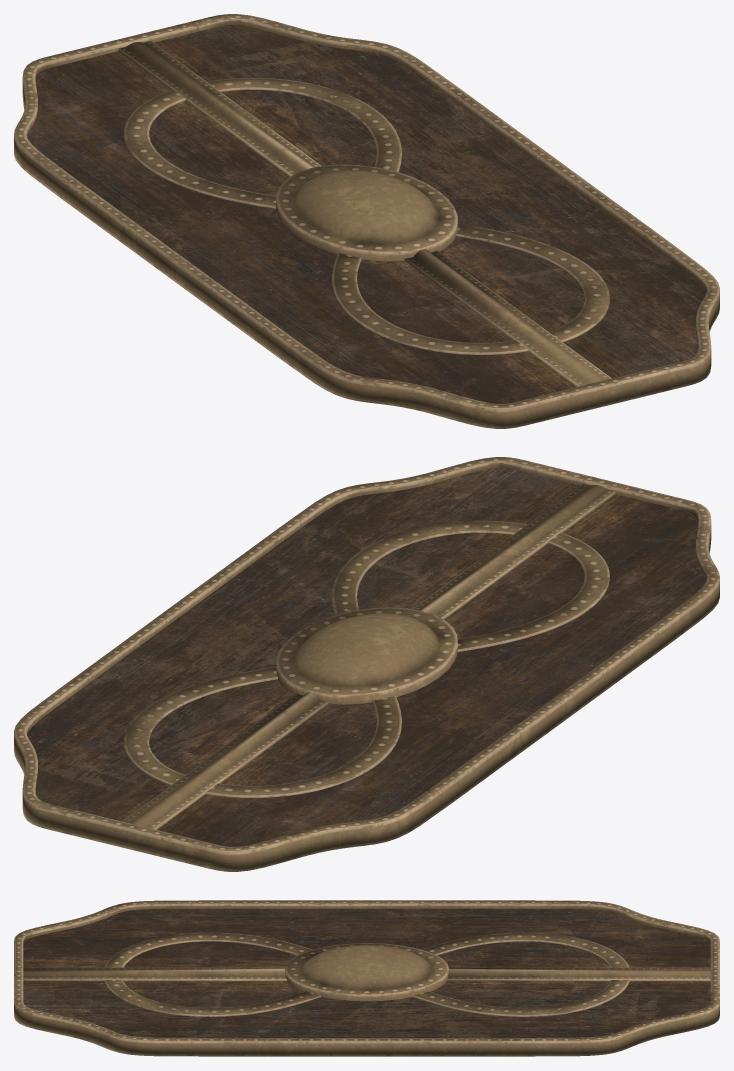
Rendered from dunland_wulf_shield_medium_d.fbx.
The picture shows the model from 3 angles, top to bottom: view 1: azimuth 30°, elevation 25°; view 2: azimuth 150°, elevation 25°; view 3: azimuth 270°, elevation 25°; orthographic projection. The views are drawn at different scales.
Visible parts, largest first — view 1: dunland_wulf_shield_medium_d; view 2: dunland_wulf_shield_medium_d; view 3: dunland_wulf_shield_medium_d.
Boxes of the visible parts, x1,y1,x2,y2 form: dunland_wulf_shield_medium_d: (14, 14, 719, 428); dunland_wulf_shield_medium_d: (14, 457, 719, 871); dunland_wulf_shield_medium_d: (14, 900, 719, 1056).
Size of the model in its own units: 0.72 by 1.52 by 0.0806.
1 material, 1 textured.
